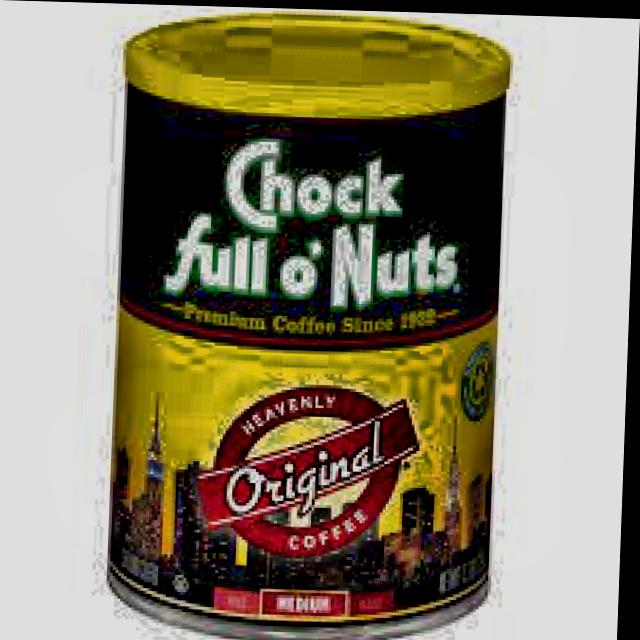can: (100, 3, 519, 640)
